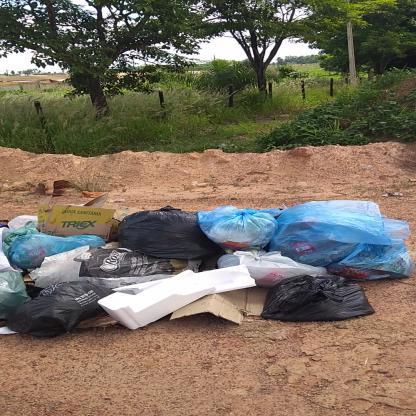lixo: (10, 211, 404, 332)
